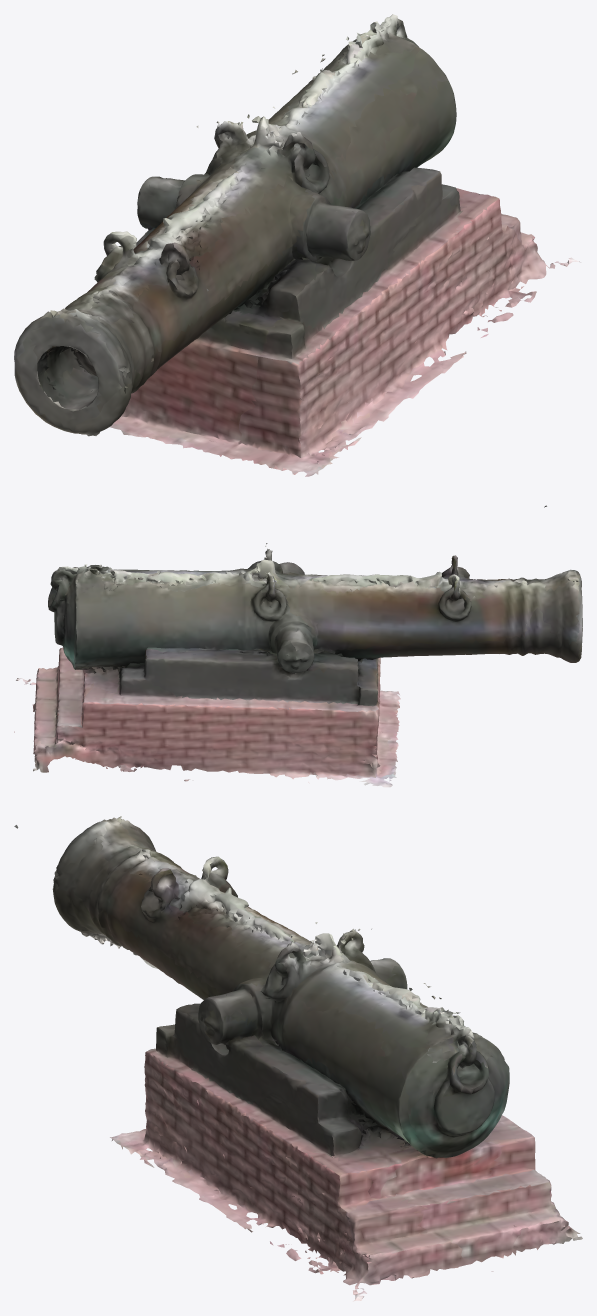
File: meriam-ki-amuk.glb
3 renders of one model, top to bottom at view 1: azimuth 30°, elevation 25°; view 2: azimuth 150°, elevation 25°; view 3: azimuth 270°, elevation 25°, orthographic. The views are drawn at different scales.
Parts seen in each view (by area): view 1: Object_2; view 2: Object_2; view 3: Object_2.
Boxes of the visible parts, x1=… form: Object_2: x1=14, y1=14, x2=580, y2=476; Object_2: x1=14, y1=505, x2=582, y2=787; Object_2: x1=14, y1=816, x2=582, y2=1301.
Bounding box in the file's own units: 25.19 × 9.74 × 19.8.
Materials: 1 (1 with a texture image).
